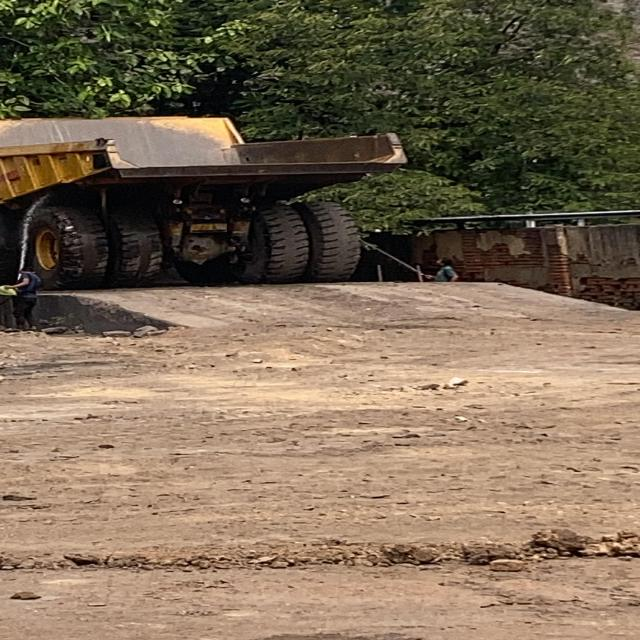dump_truck: (0, 72, 407, 310)
